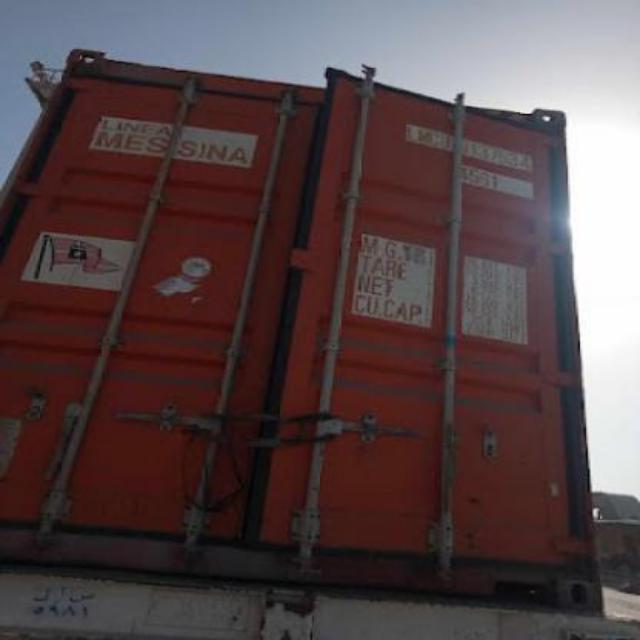1: (468, 134, 476, 164)
3: (476, 132, 486, 162), (508, 145, 520, 169)
4: (520, 147, 530, 173)
5: (496, 142, 508, 168)
7: (486, 136, 498, 166)
9: (458, 128, 470, 160)
C: (428, 120, 438, 150)
L: (404, 117, 416, 141)
M: (416, 122, 428, 148)
U: (438, 122, 452, 154)
